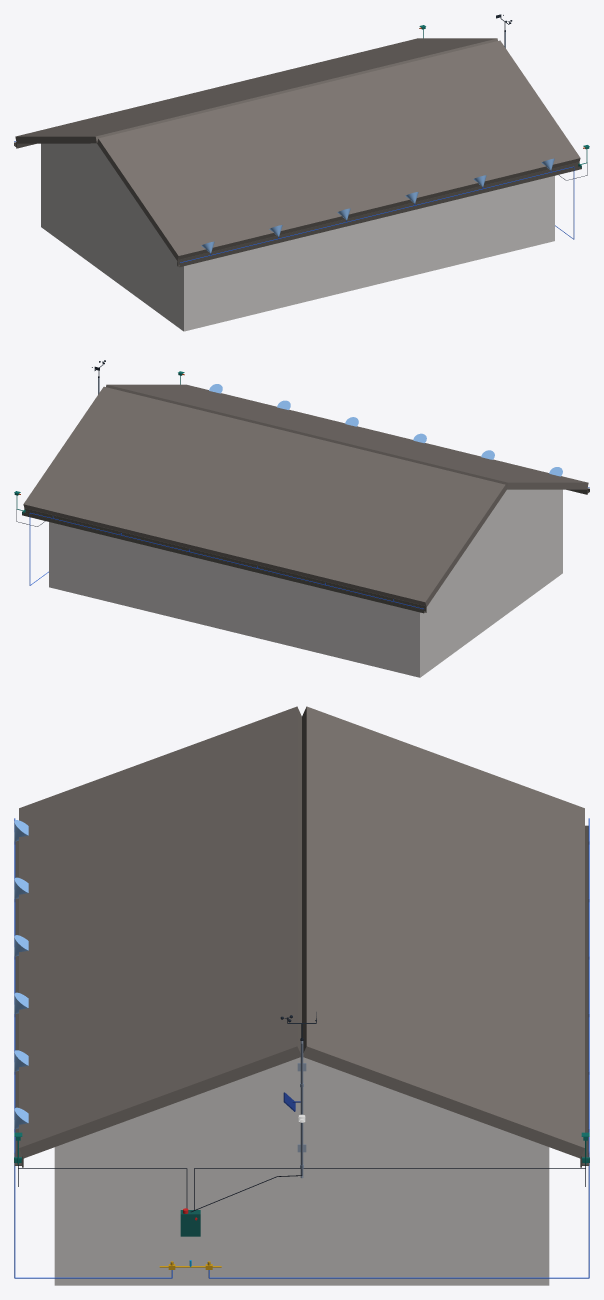
3 views of the same model, one above another, from view 1: azimuth 30°, elevation 25°; view 2: azimuth 150°, elevation 25°; view 3: azimuth 270°, elevation 25° (orthographic). The views are drawn at different scales.
Parts seen in each view (by area): view 1: Roof (context), House walls (context), Fascia and gutters (existing), Eave spray lines and heads (2 zones), Spray envelope, front zone (indicative); view 2: Roof (context), House walls (context), Fascia and gutters (existing), Eave spray lines and heads (2 zones), Spray envelope, front zone (indicative); view 3: Roof (context), House walls (context), Eave spray lines and heads (2 zones), Fascia and gutters (existing), Spray envelope, front zone (indicative), Mast and pod cables.
Part boxes in pixels (x1=…): Roof (context): x1=15, y1=38, x2=580, y2=260; House walls (context): x1=41, y1=143, x2=554, y2=331; Fascia and gutters (existing): x1=14, y1=142, x2=581, y2=266; Eave spray lines and heads (2 zones): x1=14, y1=141, x2=574, y2=262; Spray envelope, front zone (indicative): x1=201, y1=158, x2=554, y2=253; Roof (context): x1=23, y1=384, x2=588, y2=606; House walls (context): x1=49, y1=489, x2=562, y2=677; Fascia and gutters (existing): x1=22, y1=488, x2=589, y2=613; Eave spray lines and heads (2 zones): x1=29, y1=487, x2=589, y2=609; Spray envelope, front zone (indicative): x1=209, y1=384, x2=562, y2=476; Roof (context): x1=19, y1=706, x2=584, y2=1158; House walls (context): x1=54, y1=1057, x2=549, y2=1285; Eave spray lines and heads (2 zones): x1=14, y1=818, x2=589, y2=1278; Fascia and gutters (existing): x1=14, y1=825, x2=589, y2=1167; Spray envelope, front zone (indicative): x1=14, y1=820, x2=28, y2=1129; Mast and pod cables: x1=18, y1=1044, x2=585, y2=1212.
Bounding box in the file's own units: 13.38 × 5.14 × 9.31.
